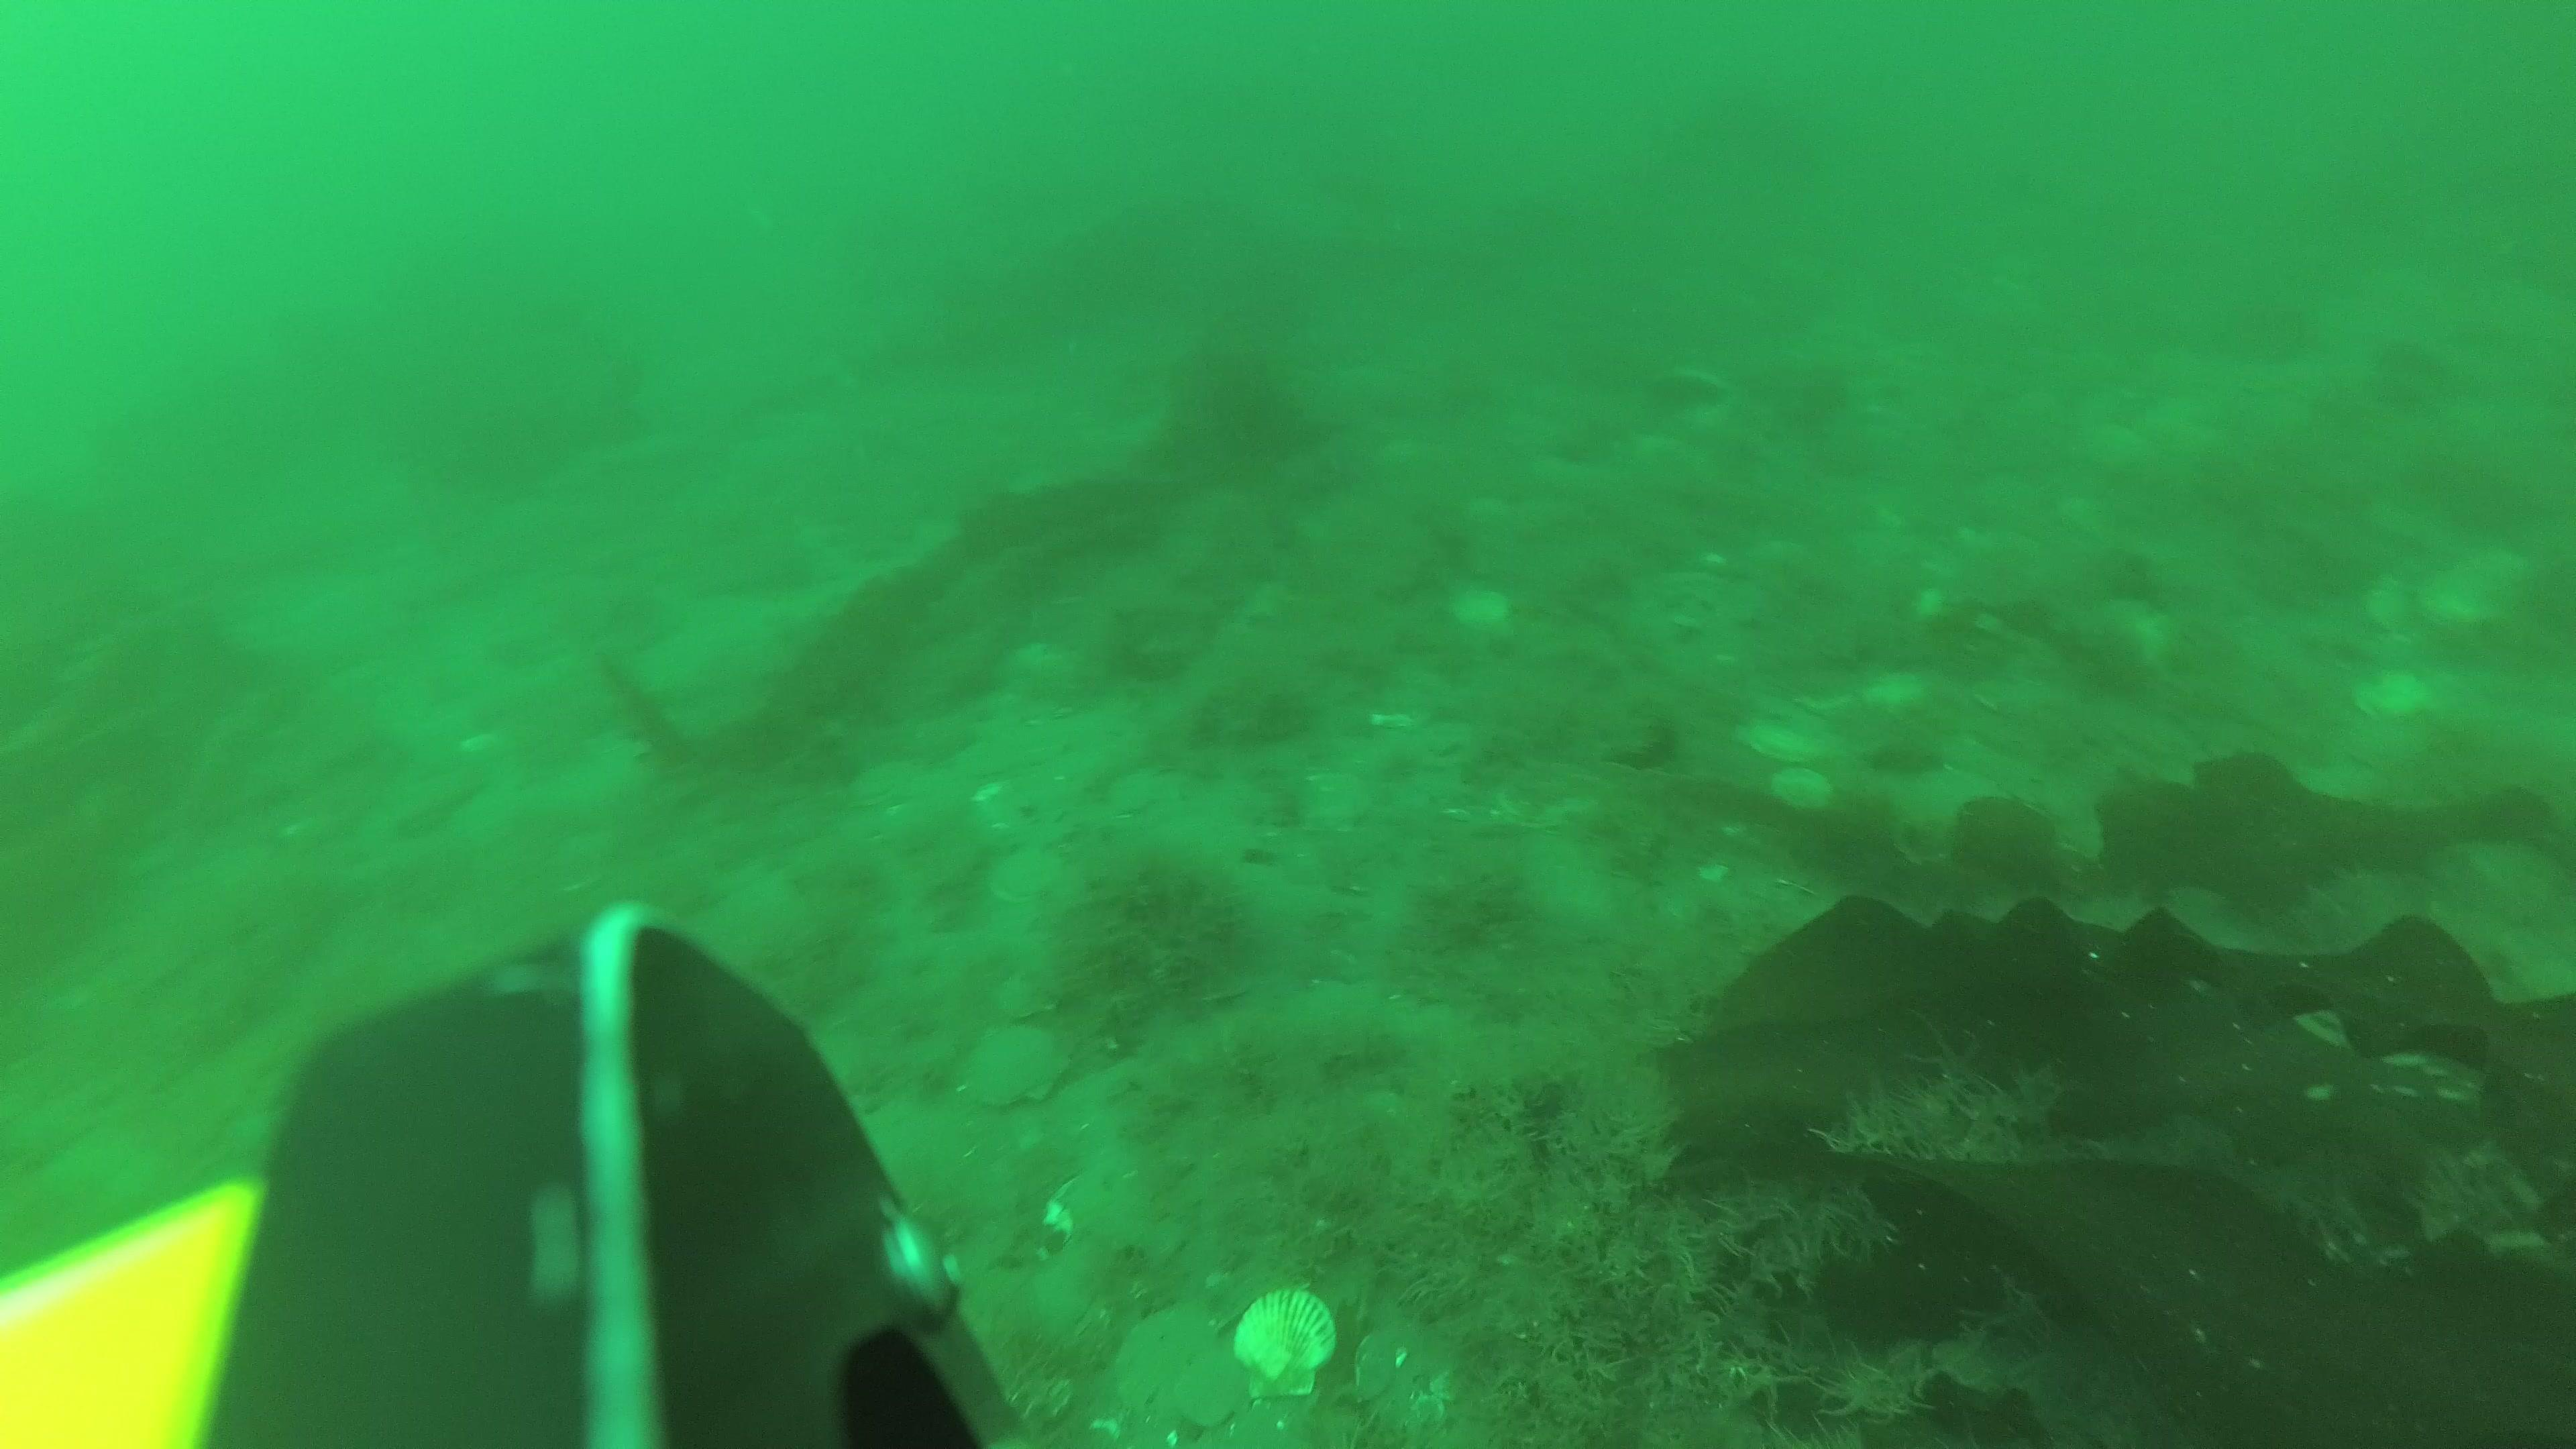scallop: (1230, 1284, 1338, 1407), (1115, 1299, 1219, 1417), (962, 1014, 1081, 1116), (1493, 771, 1605, 835), (1290, 764, 1373, 840), (1171, 1352, 1251, 1430), (2348, 663, 2433, 727), (989, 849, 1069, 911), (989, 966, 1072, 1024), (1746, 720, 1840, 766), (1447, 586, 1516, 637), (1769, 766, 1838, 816)
